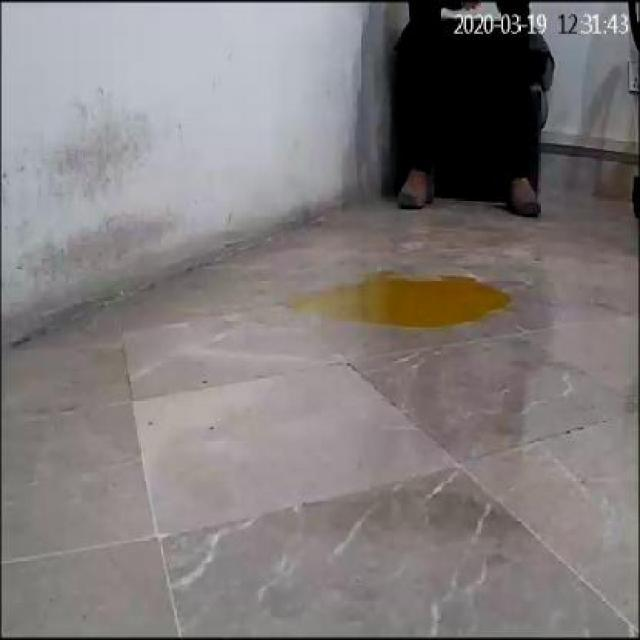spill: (310, 272, 516, 328)
